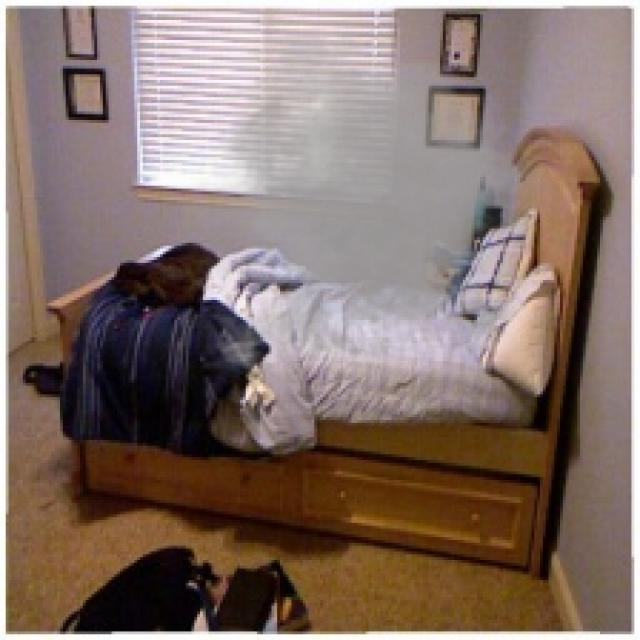Smoke: (157, 23, 572, 383)
